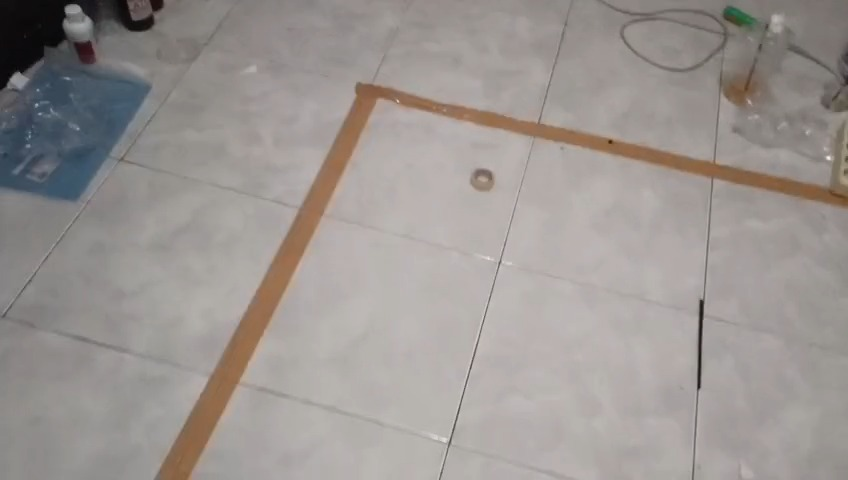floor marking: (158, 83, 847, 479)
